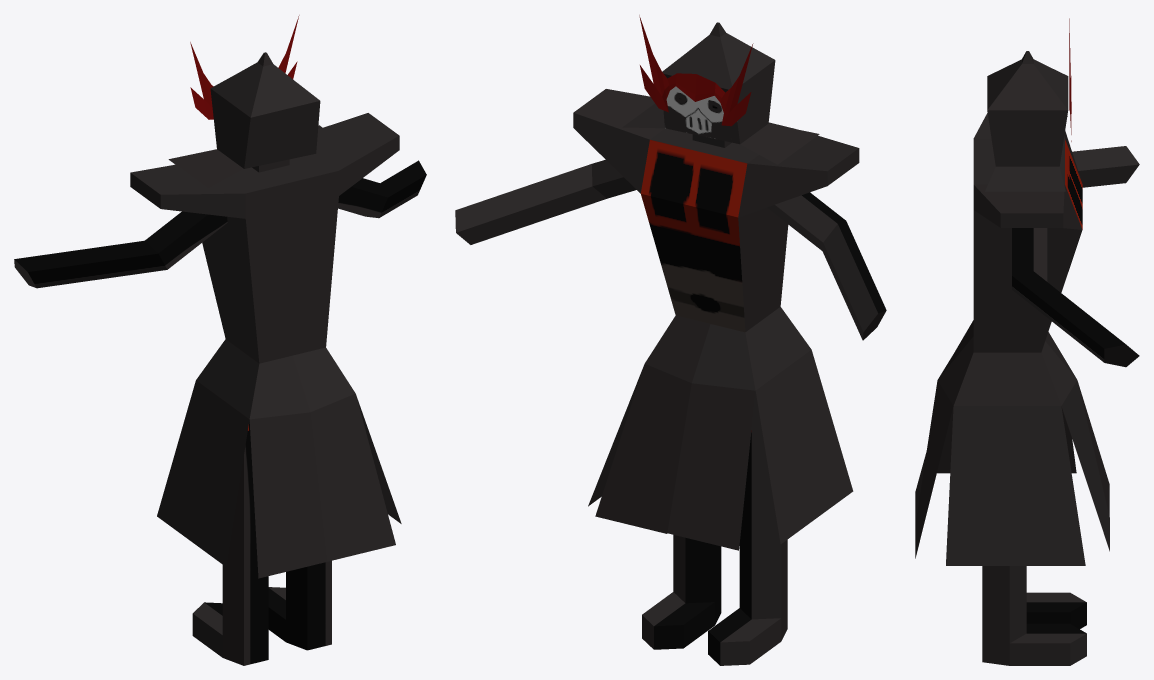
File: firenation.glb
3 views of the same model, side by side, from view 1: azimuth 30°, elevation 25°; view 2: azimuth 150°, elevation 25°; view 3: azimuth 270°, elevation 25° (orthographic). The views are drawn at different scales.
Parts seen in each view (by area): view 1: Cube, Cylinder.001, Cube.001, Cylinder, Plane; view 2: Cube, Cylinder.001, Cylinder, Cube.001, Plane; view 3: Cube, Cube.001, Cylinder.001, Cylinder.
Boxes of the visible parts, <box> form: Cube: <box>130,113,401,578</box>; Cylinder.001: <box>192,420,331,665</box>; Cube.001: <box>168,52,358,188</box>; Cylinder: <box>14,160,426,288</box>; Plane: <box>190,15,299,119</box>; Cube: <box>573,89,859,550</box>; Cylinder.001: <box>642,392,787,665</box>; Cylinder: <box>455,159,886,340</box>; Cube.001: <box>622,22,819,164</box>; Plane: <box>639,15,753,126</box>; Cube: <box>915,113,1109,565</box>; Cube.001: <box>985,51,1068,191</box>; Cylinder.001: <box>982,566,1086,665</box>; Cylinder: <box>1012,146,1139,367</box>.
Size of the model in its own units: 8.68 by 12.22 by 4.15.
Materials: 1 (1 with a texture image).
